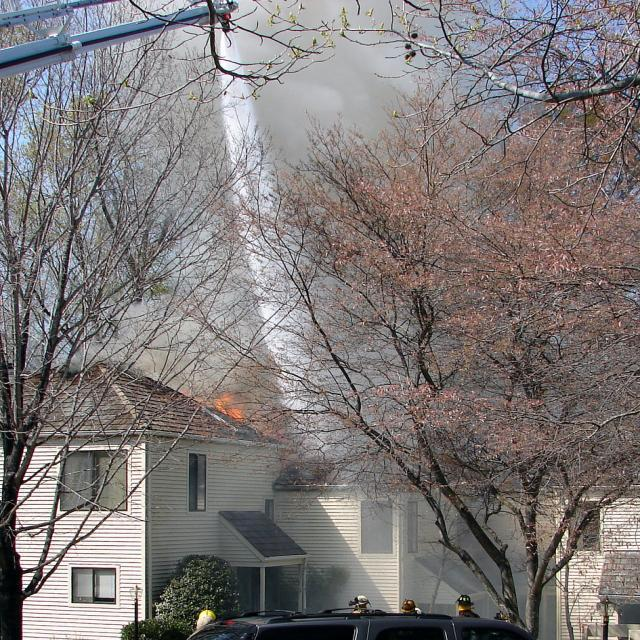Fire: (204, 388, 248, 434)
